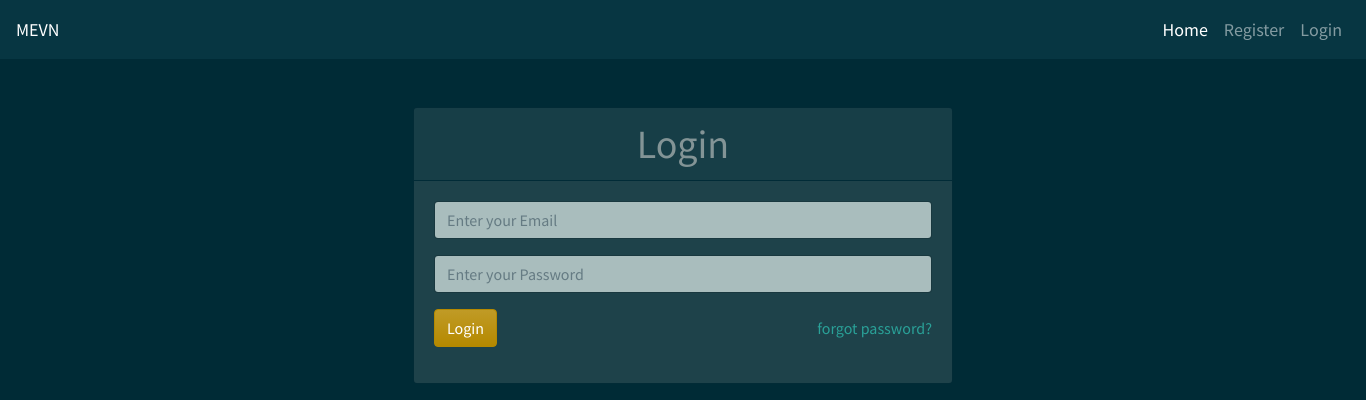
Test: The Login Process › should login a user, flash message and redirect to homepage
Type "cpuram1@gmail.com" into the field named "email" at [683, 220], box top-left (434, 201), bottom-right (932, 239)
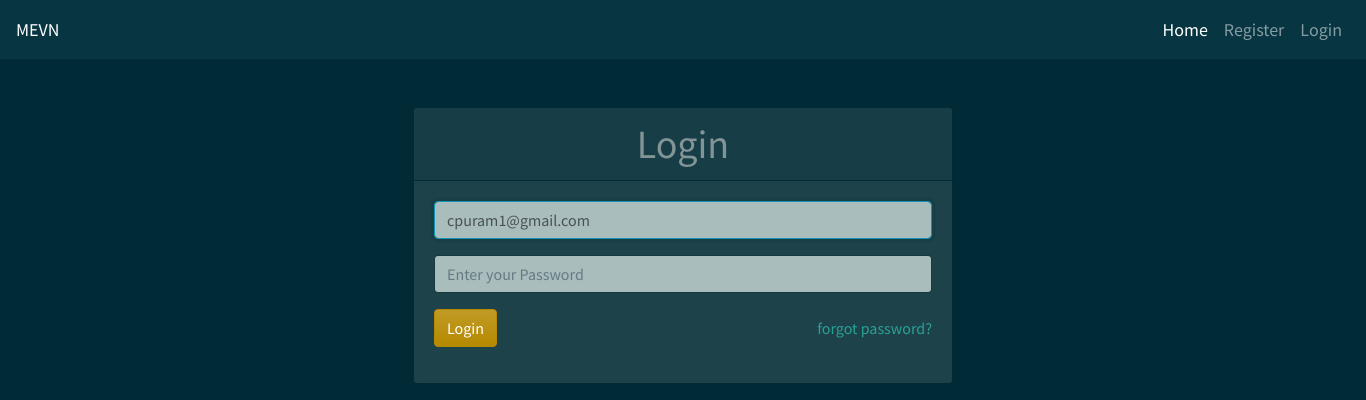
Type "2begood4" into the password field named "password" at [683, 274], box top-left (434, 255), bottom-right (932, 293)
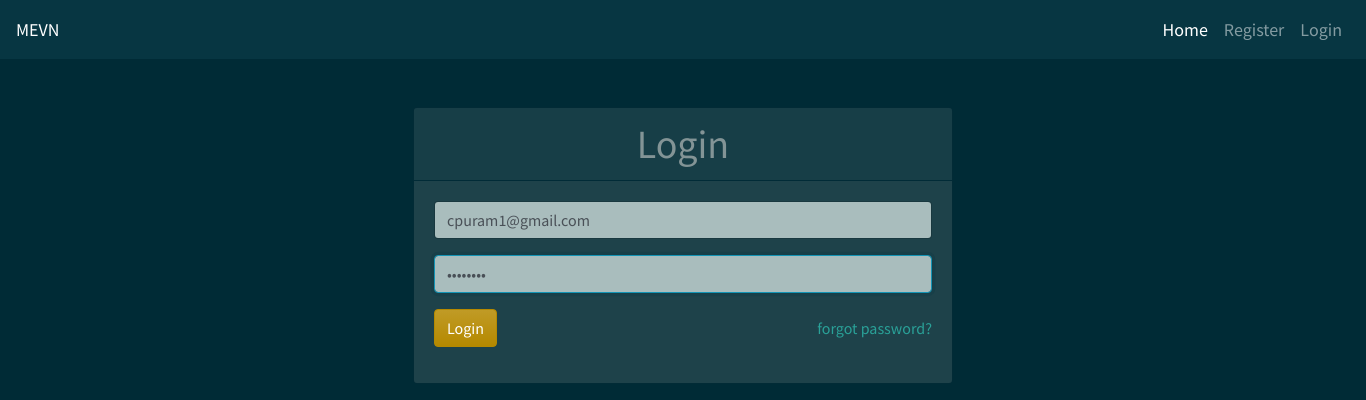
Click the button with id "submit-login" at [466, 328], box top-left (434, 309), bottom-right (497, 347)
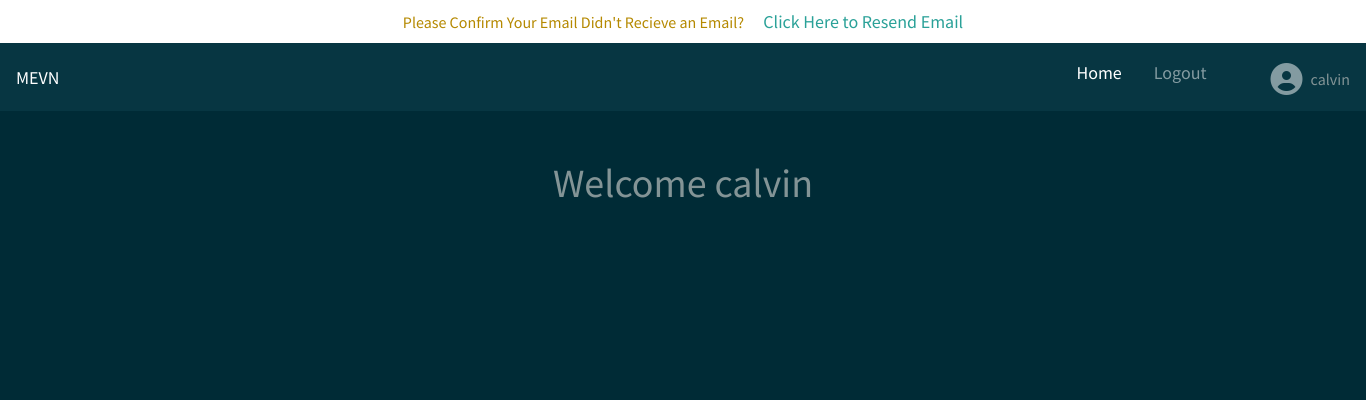
Expected: the link with id "logout" reads "Logout", top-left (1154, 61), bottom-right (1207, 84)
Expected: the text with id "name" reads "calvin", top-left (1311, 69), bottom-right (1350, 89)
Expected: the heading with id "welcome" reads "Welcome calvin", top-left (553, 158), bottom-right (813, 208)
